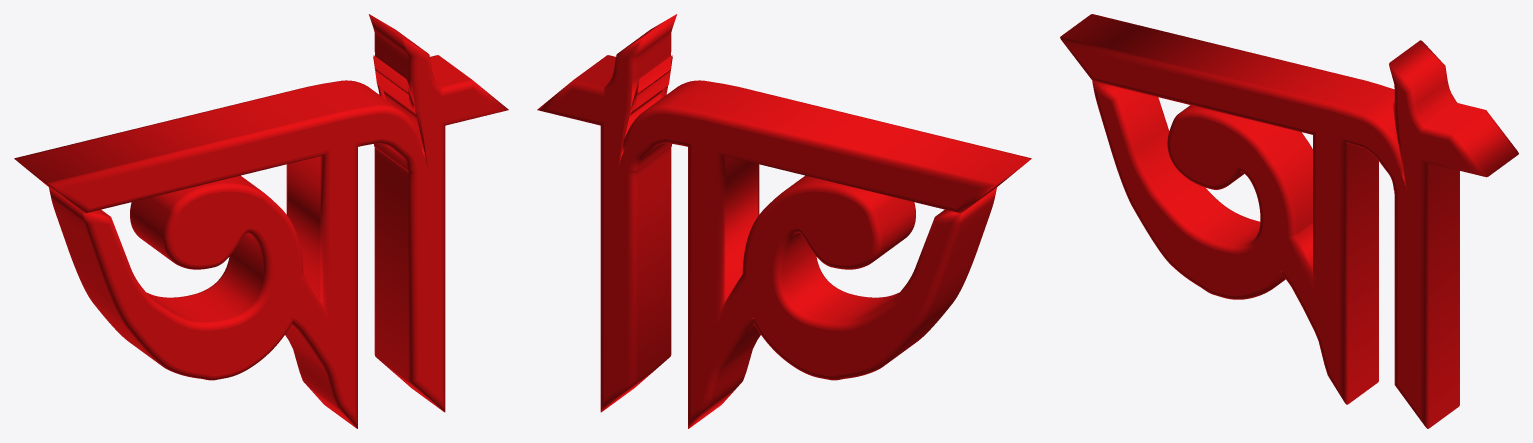
The model's file is bn_vowel_02.fbx.
The picture shows the model from 3 angles, left to right: view 1: azimuth 30°, elevation 25°; view 2: azimuth 150°, elevation 25°; view 3: azimuth 330°, elevation 25°; orthographic projection. The views are drawn at different scales.
Parts seen in each view (by area): view 1: Text; view 2: Text; view 3: Text.
Part boxes in pixels (bbox=[...]): Text: bbox=[14, 14, 508, 428]; Text: bbox=[537, 14, 1031, 428]; Text: bbox=[1060, 14, 1518, 428].
Size of the model in its own units: 345 by 275 by 51.38.
